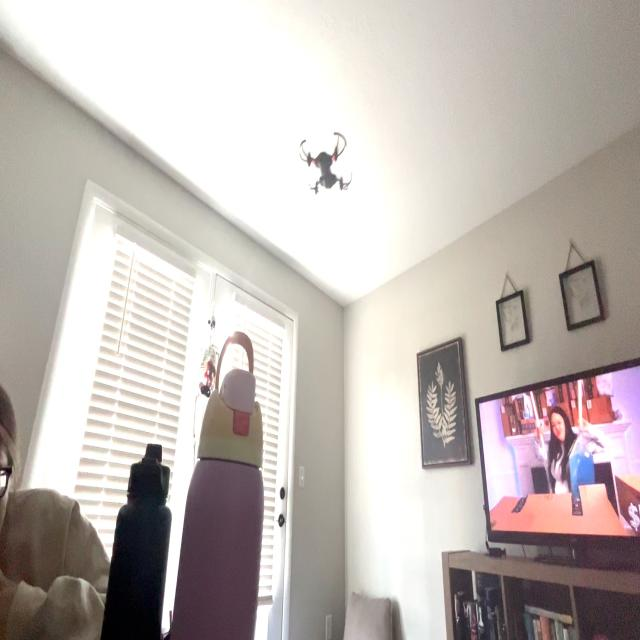drone: (286, 118, 354, 215)
